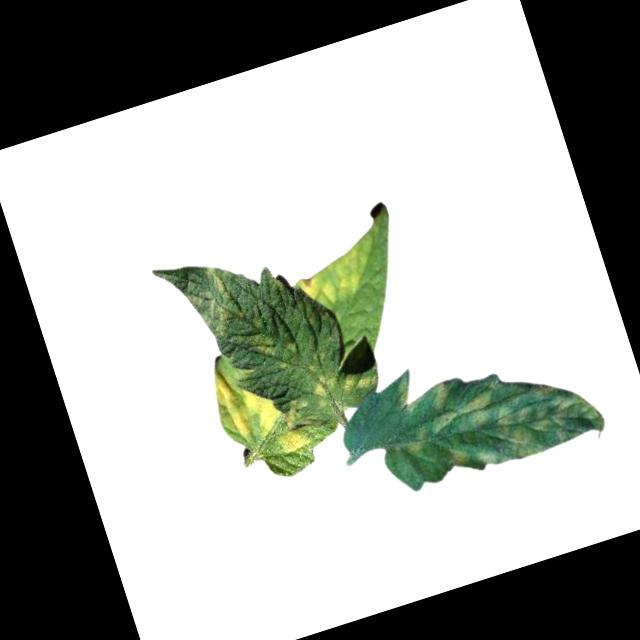Leaf_Mold: (388, 342, 608, 491), (203, 354, 314, 472), (284, 228, 388, 313), (178, 259, 246, 340), (309, 360, 378, 406)
